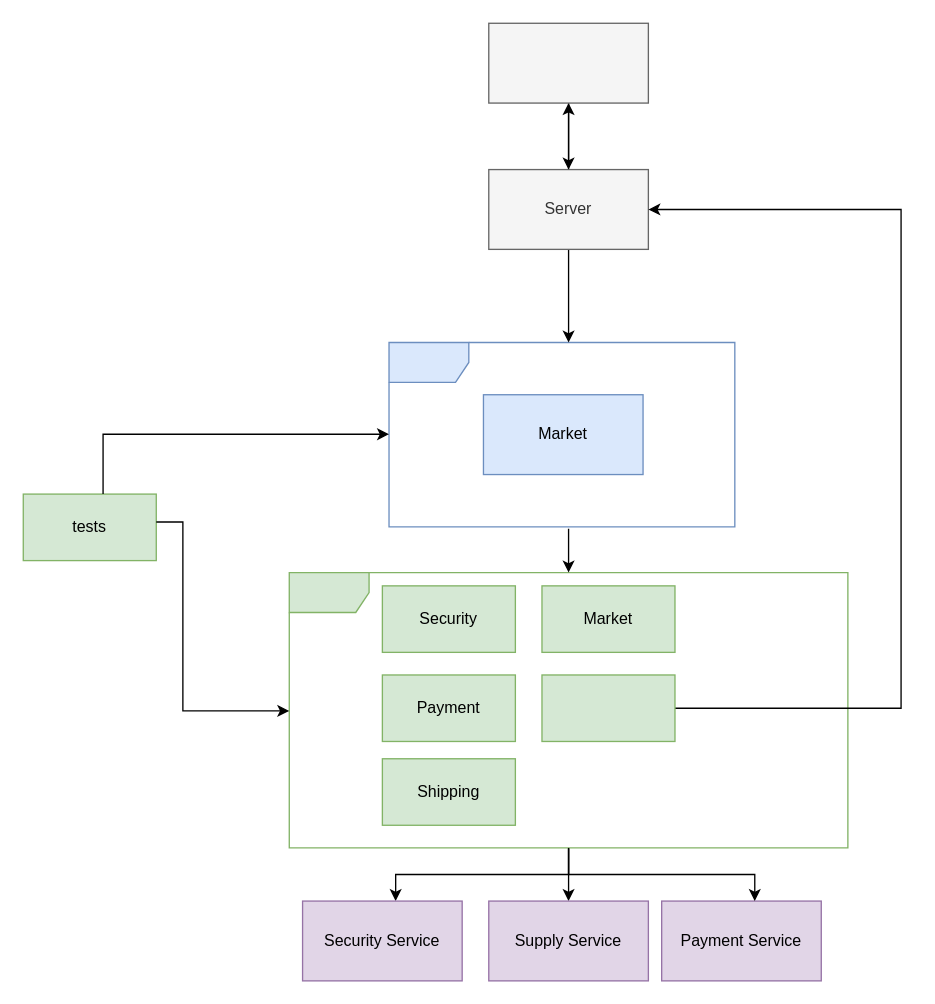
This 935x1004 diagram has some shape labels left out. Here are the shapes that lost their labels. From the top down, the box of each, then its label:
(487, 22, 648, 103): Client
(388, 341, 735, 527): Service
(288, 571, 848, 848): Domain
(541, 674, 675, 741): Publisher
